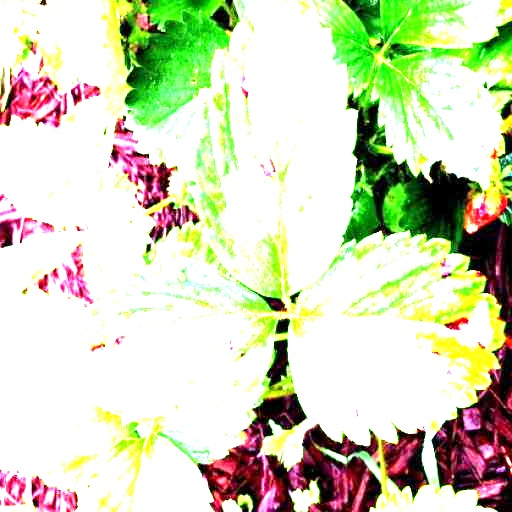Leaf Spot: (187, 0, 359, 299), (288, 230, 507, 447), (75, 255, 280, 433), (369, 50, 508, 192), (0, 115, 56, 225)
Powdery Mildew Fruit: (462, 187, 509, 234)
